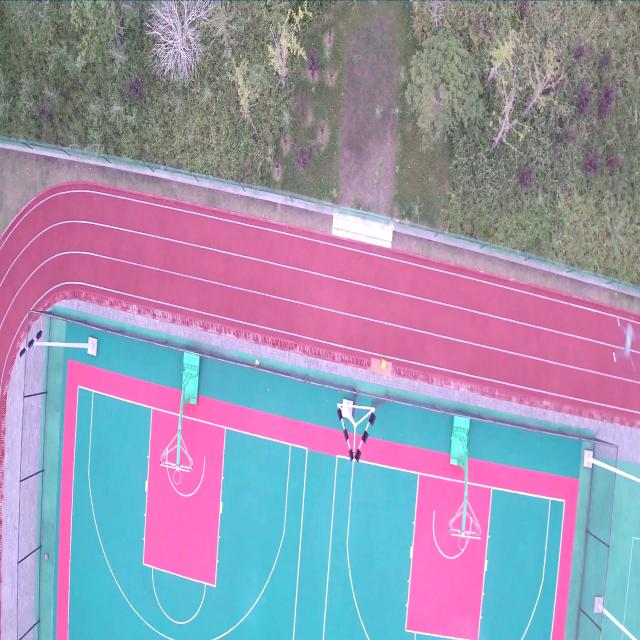UAV: (609, 314, 640, 369)
